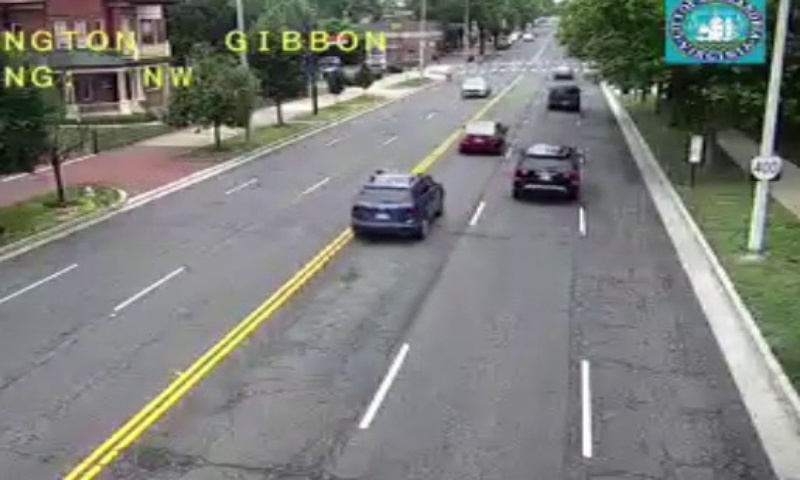car: (351, 172, 445, 231), (512, 144, 578, 193), (459, 120, 502, 154), (547, 86, 580, 112)
